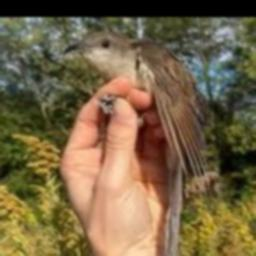Cuckoo: (64, 29, 212, 256)
